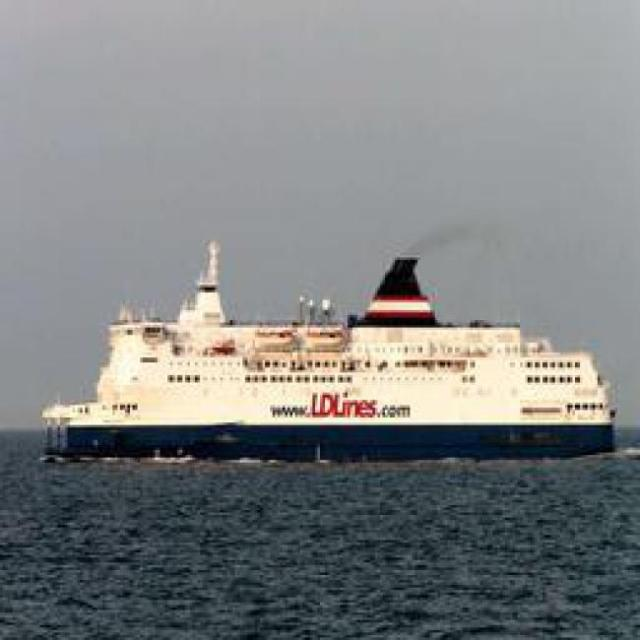boat: (30, 311, 620, 465)
